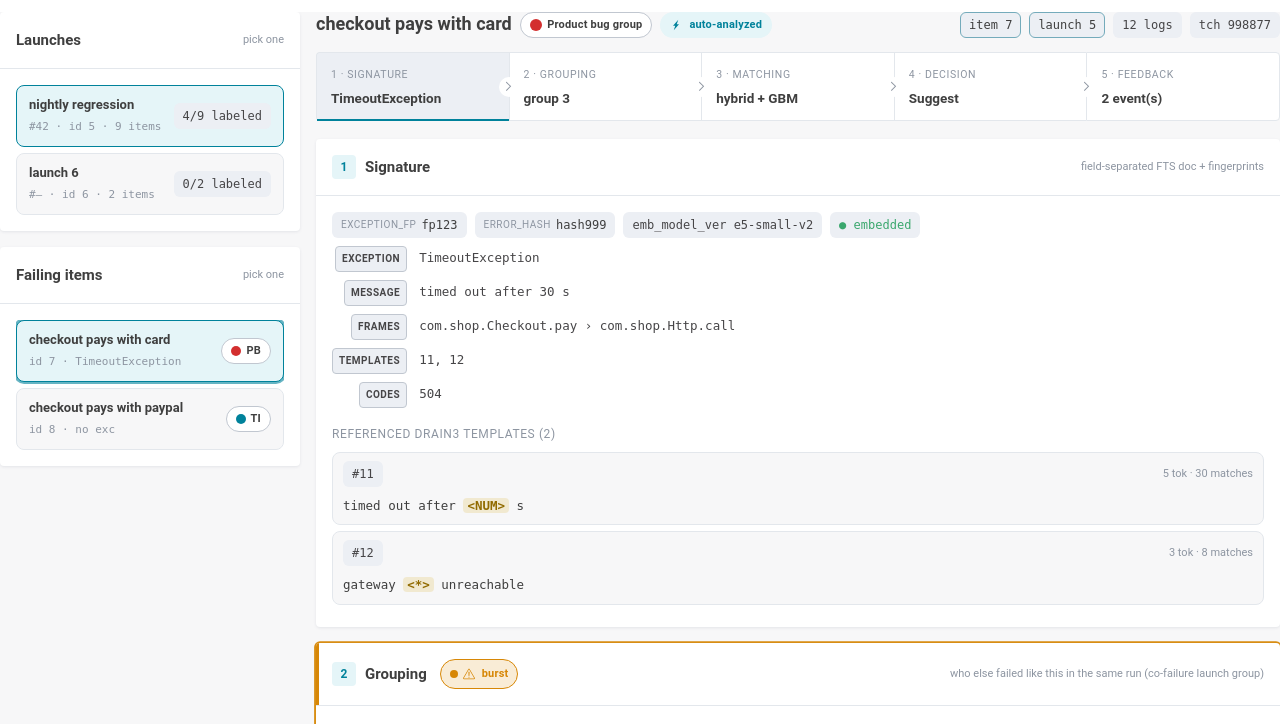
Scenario: Item Journey › opens the first item of a launch the user picks, even after a back step
Expected: the text "Signature" is shown, [365,158,430,176]
Click the text "launch 6": x=54, y=172 [29,165,79,180]
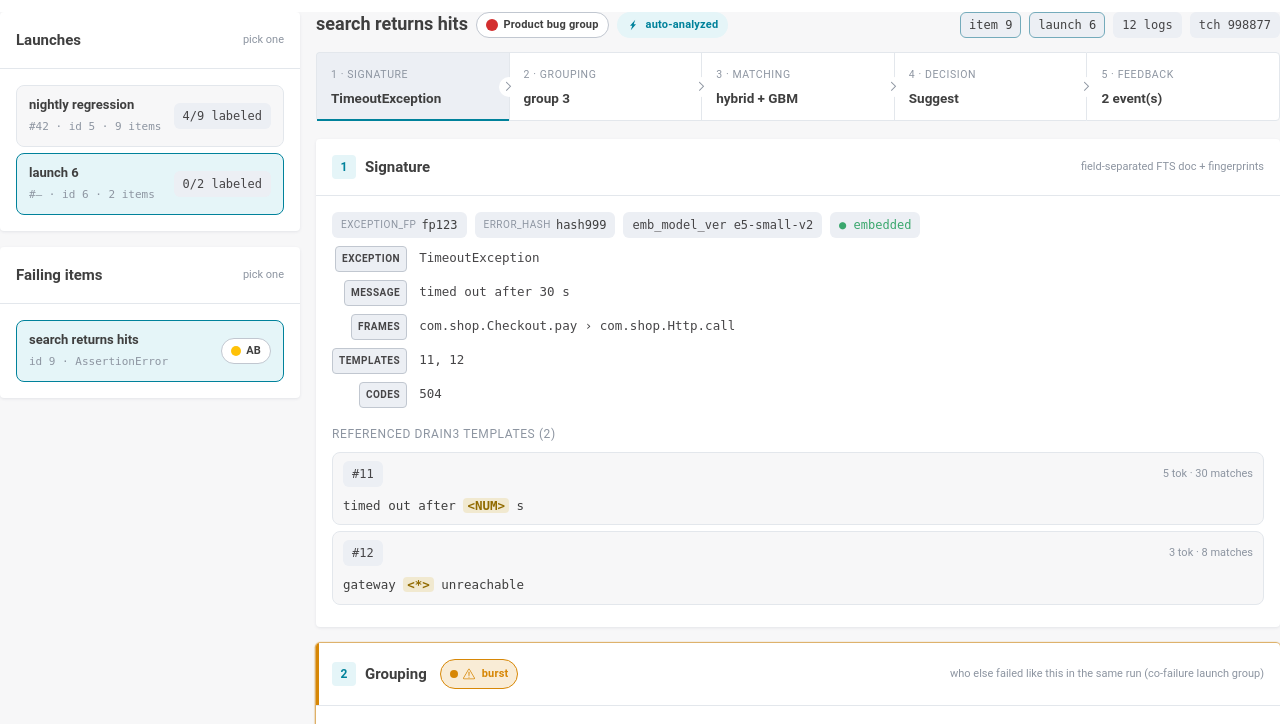
Expected: the text "search returns hits" is shown, [29,332,139,347]
